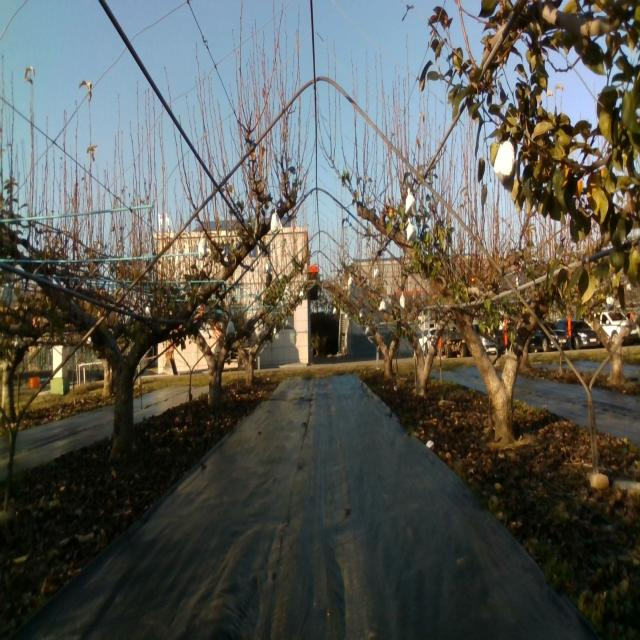pearbags: (493, 138, 516, 193), (405, 187, 417, 217), (270, 208, 283, 234), (198, 236, 211, 261), (407, 218, 417, 242)
